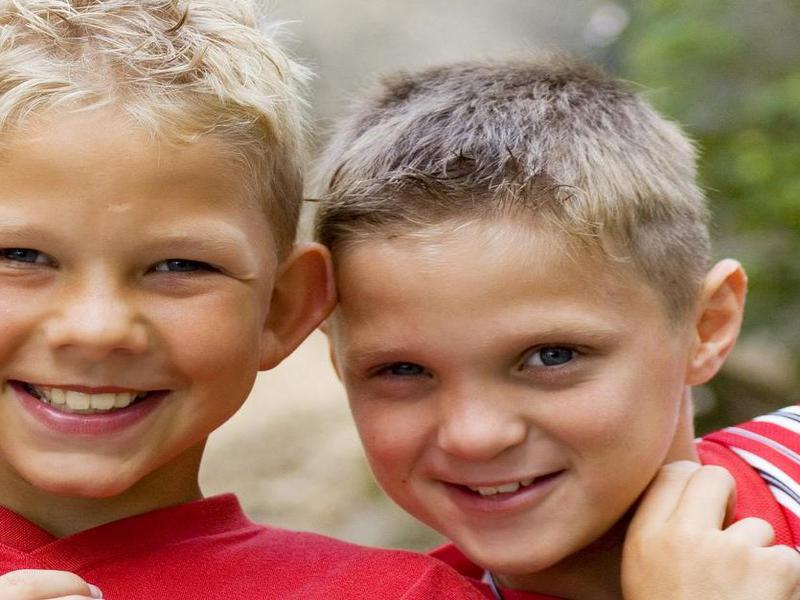person: (1, 1, 443, 600), (316, 53, 792, 600)
